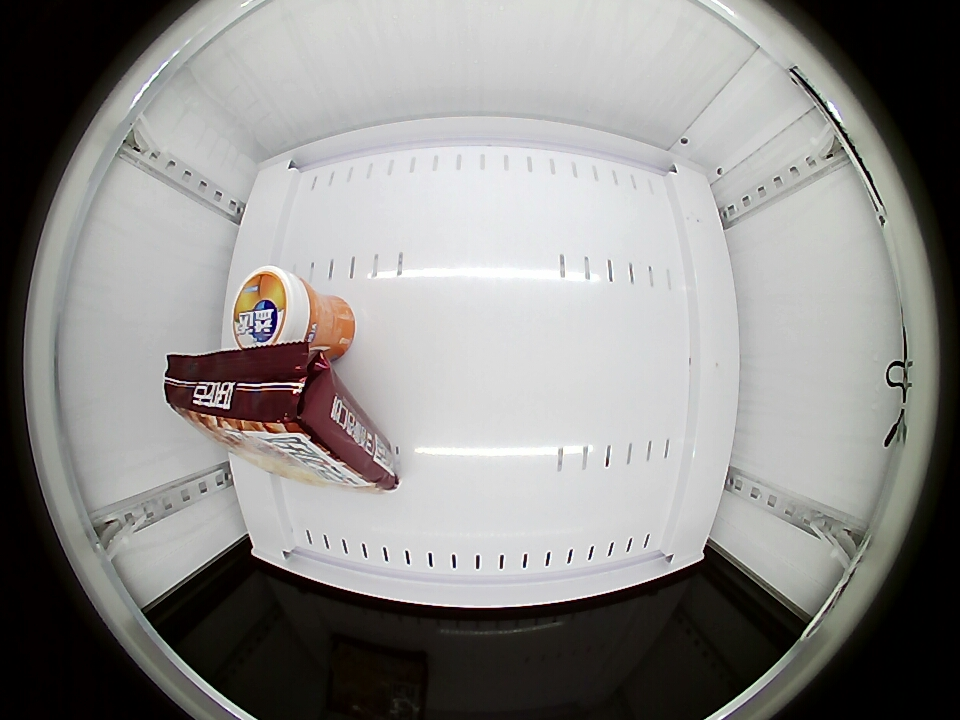haochidian: (163, 350, 323, 446)
